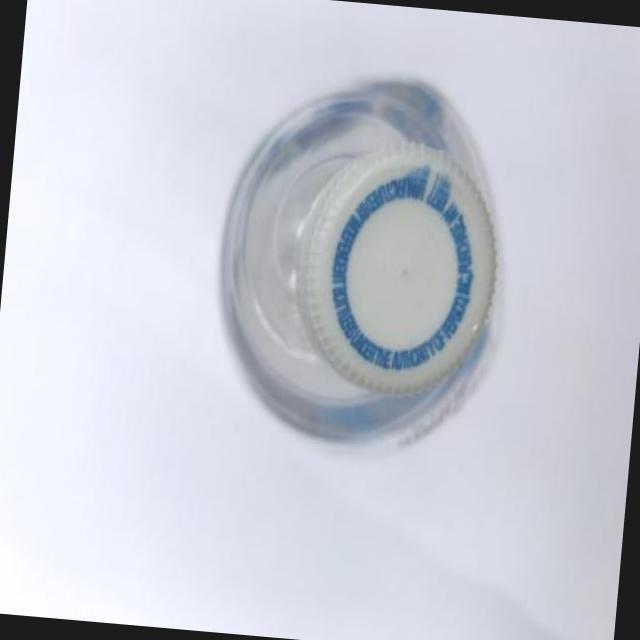Recycle: (205, 57, 522, 466)
